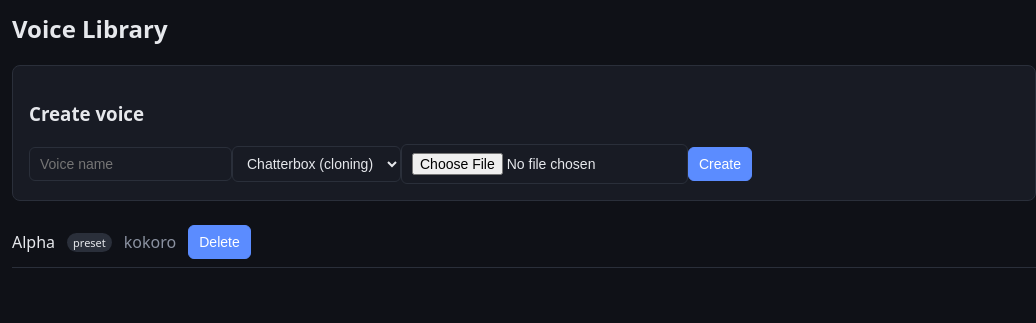
VoiceLibrary › validates that a name is required
Click the button "Create" at (720, 164), box 688,147 -> 752,181
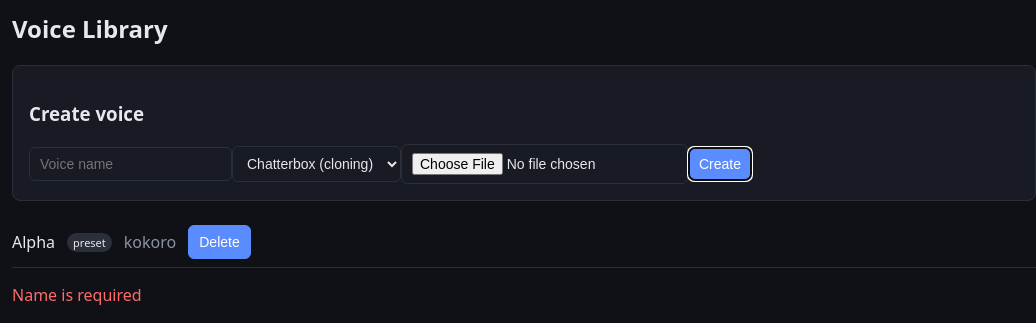
Check: the message reads "Name is required", box 12,284 -> 142,306
